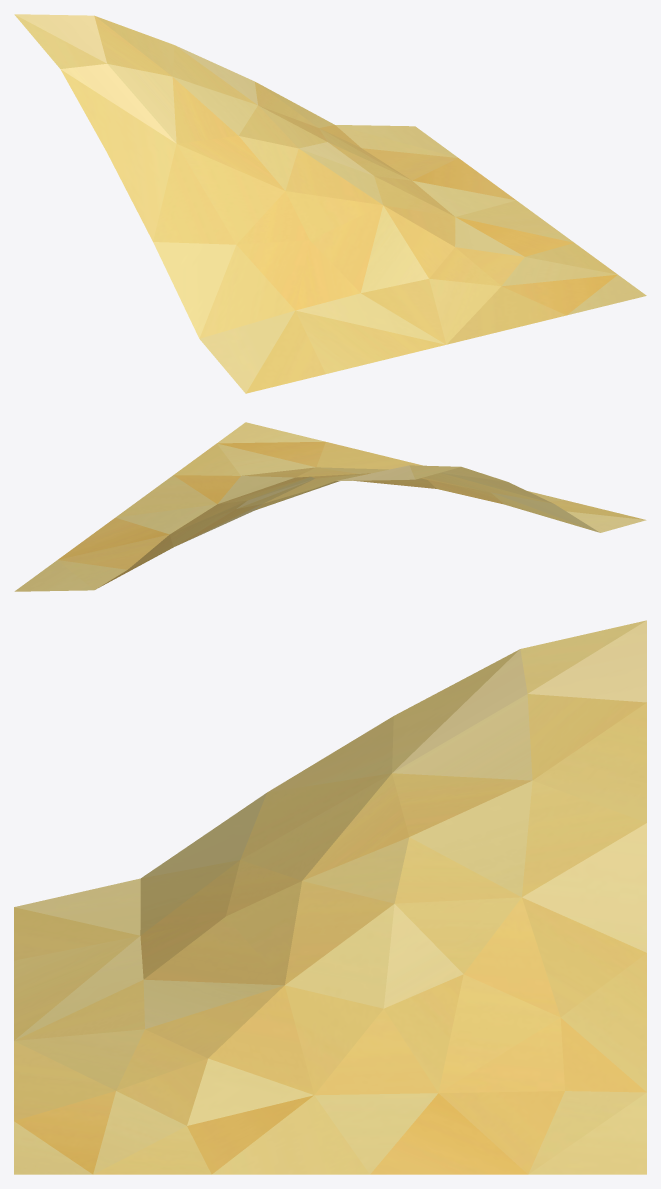
The model's file is GL-Terrain-part-09-LOD2.fbx.
3 renders of one model, top to bottom at view 1: azimuth 30°, elevation 25°; view 2: azimuth 150°, elevation 25°; view 3: azimuth 270°, elevation 25°, orthographic. The views are drawn at different scales.
Parts seen in each view (by area): view 1: GL_Terrain_part_09; view 2: GL_Terrain_part_09; view 3: GL_Terrain_part_09.
Boxes of the visible parts, x1,y1,x2,y2 form: GL_Terrain_part_09: (14,14,646,393); GL_Terrain_part_09: (14,422,646,591); GL_Terrain_part_09: (14,620,646,1174).
Bounding box in the file's own units: 6 × 3 × 6.
